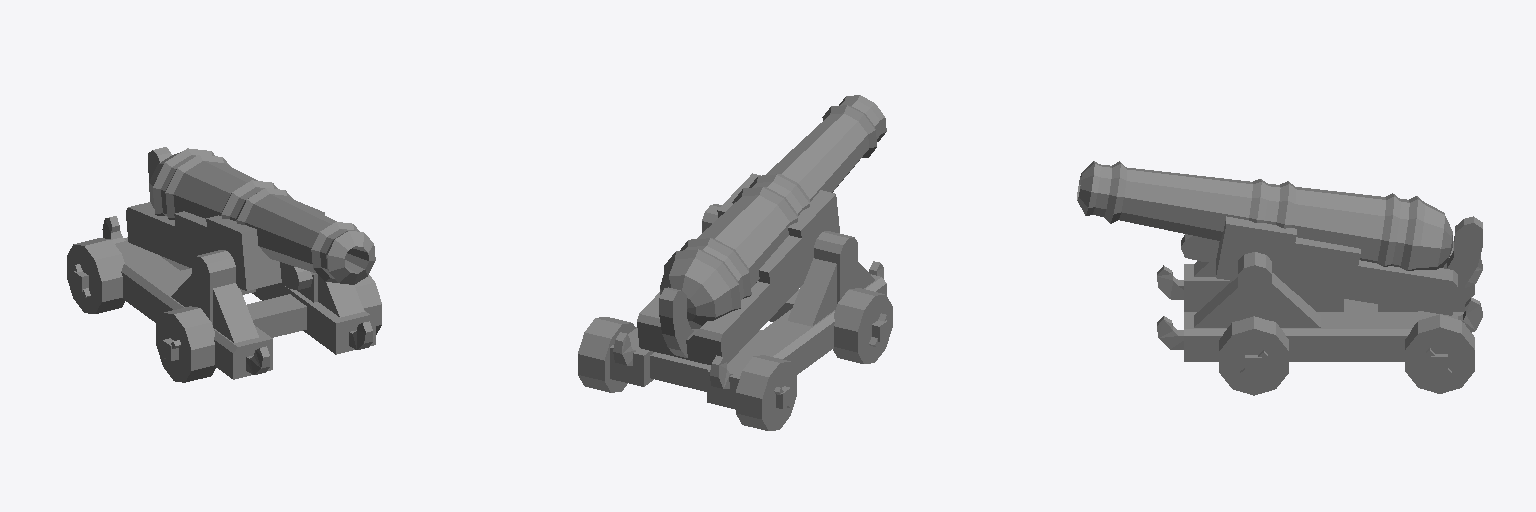
Rendered from cannon2.obj.
3 renders of one model, left to right at view 1: azimuth 30°, elevation 25°; view 2: azimuth 150°, elevation 25°; view 3: azimuth 270°, elevation 25°, orthographic.
Visible parts, largest first — view 1: WS_Canon_01; view 2: WS_Canon_01; view 3: WS_Canon_01.
Boxes of the visible parts, <box> form: WS_Canon_01: <box>67,147,381,382</box>; WS_Canon_01: <box>578,95,892,430</box>; WS_Canon_01: <box>1077,161,1482,395</box>.
Size of the model in its own units: 16.72 by 14.49 by 28.68.